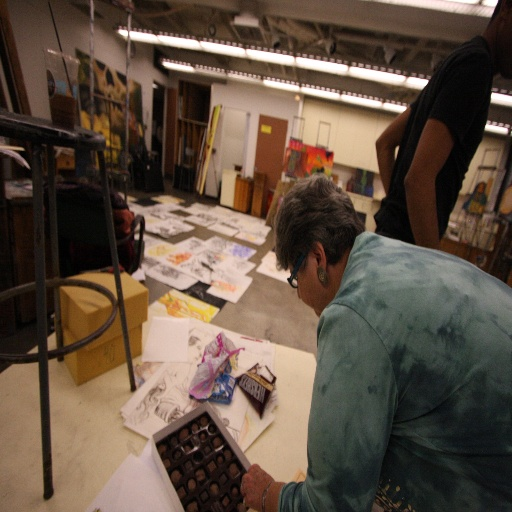hand: (240, 461, 276, 511)
